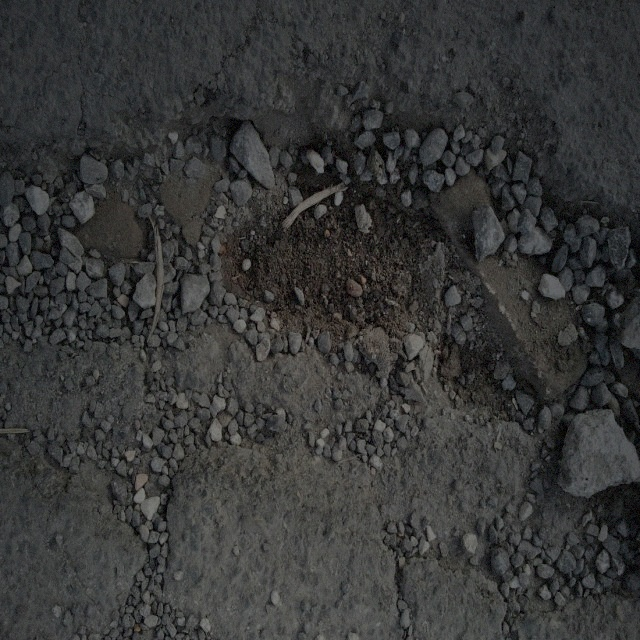pothole: (90, 81, 598, 455)
